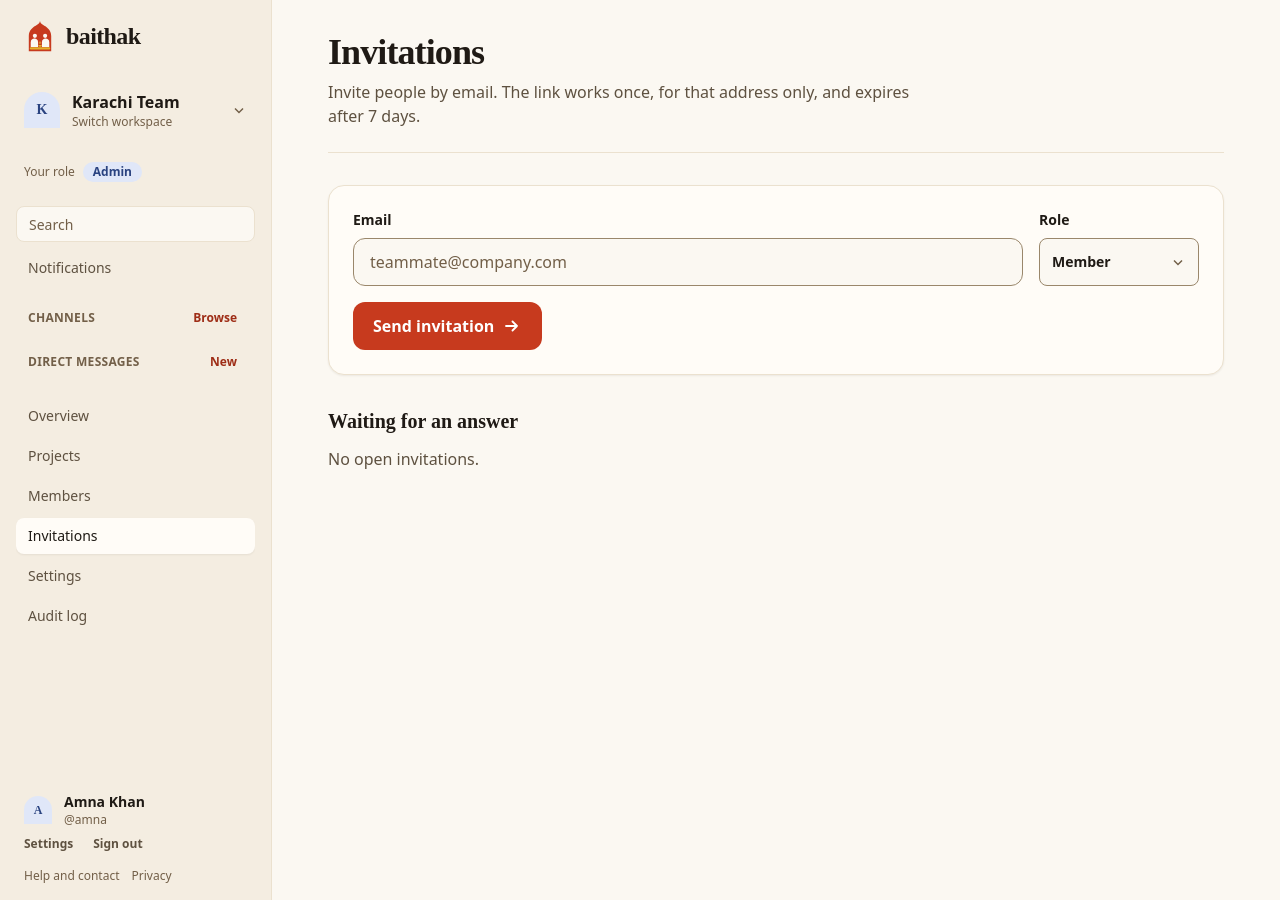
Test: invitations › an admin invites someone and sees it waiting
Type "chanda@example.com" into the field labelled "Email" at (688, 262), box [353,238,1023,286]
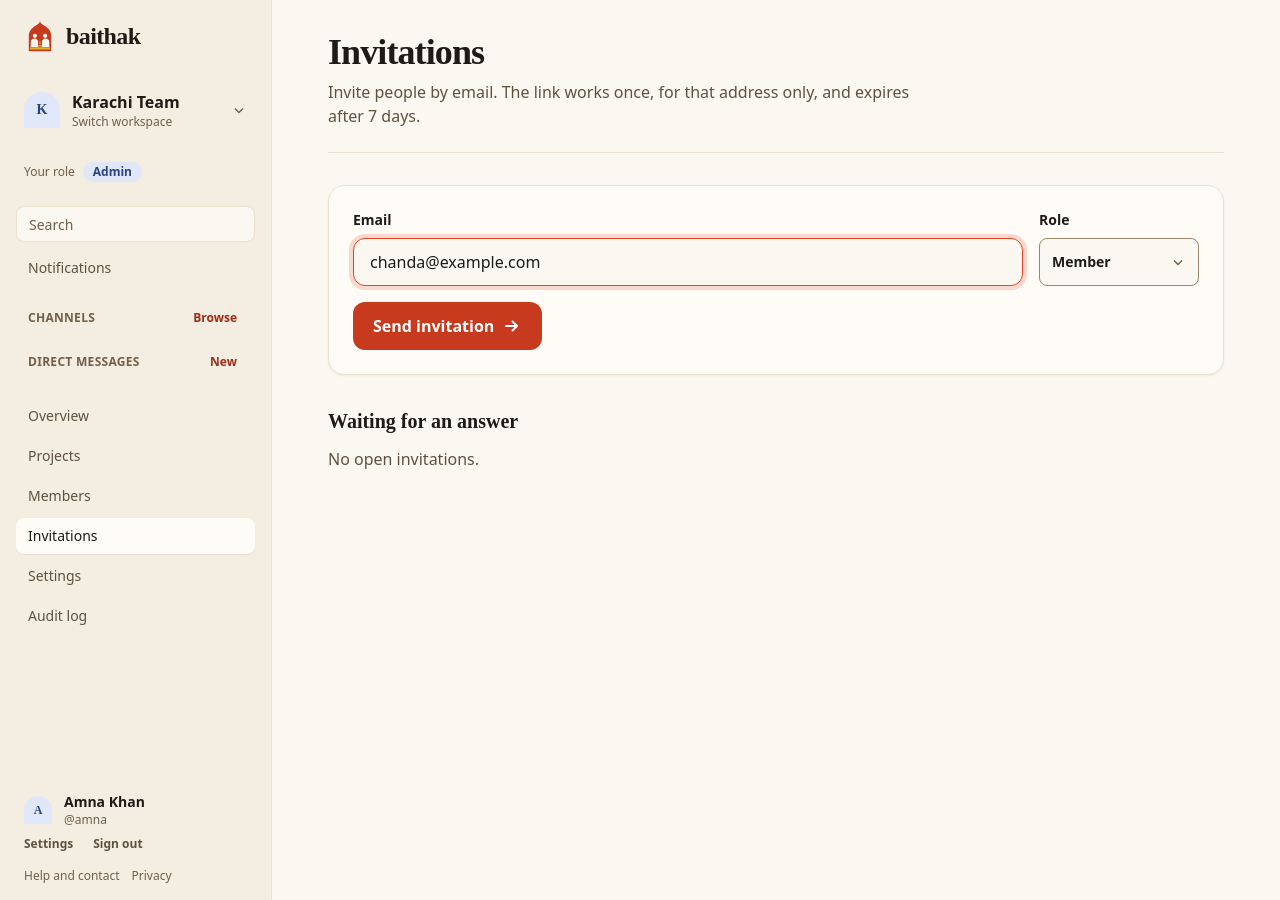
Click the dropdown named "Role" at (1119, 262), box [1039,238,1199,286]
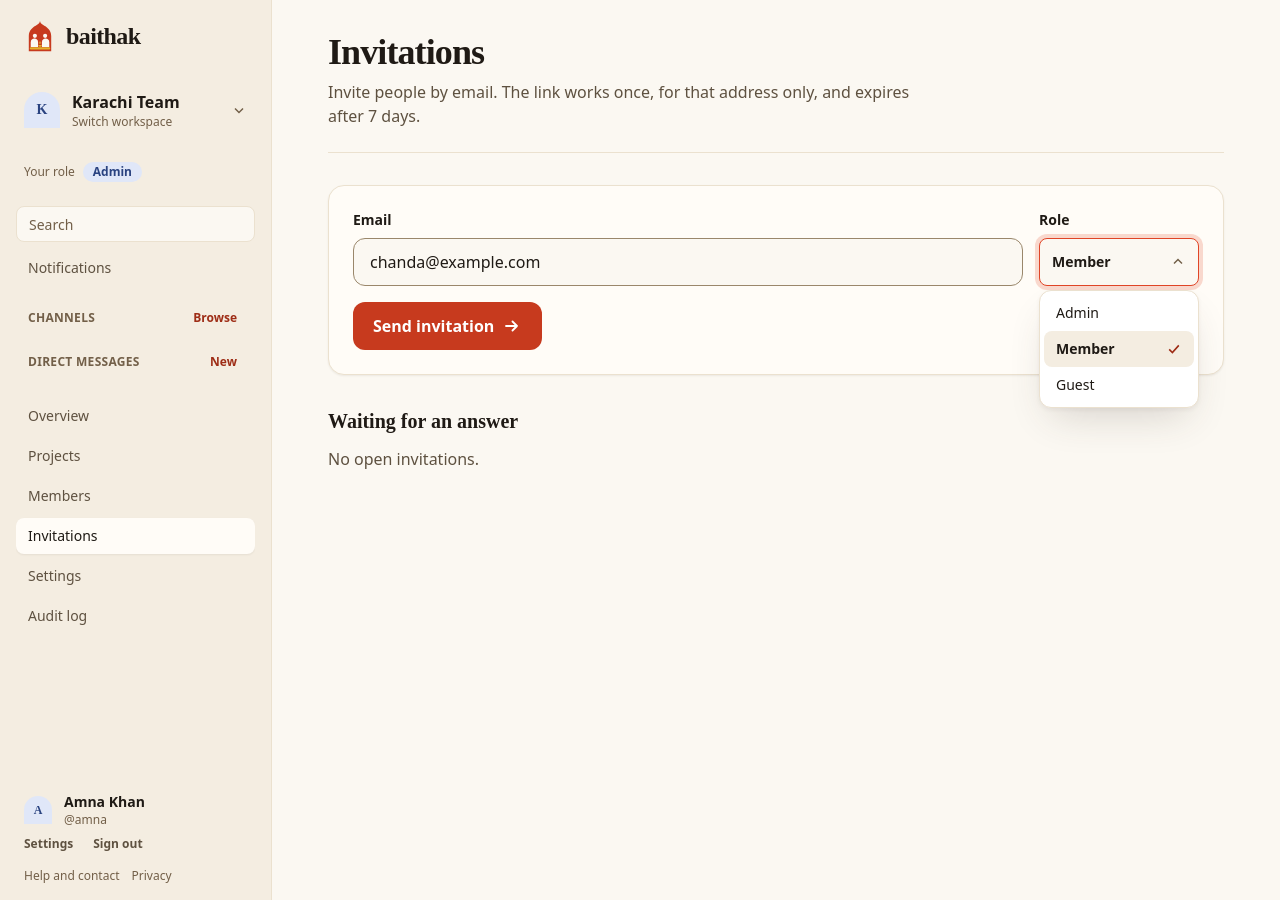
Click the option "Member" at (1119, 349), box [1044,331,1194,367]
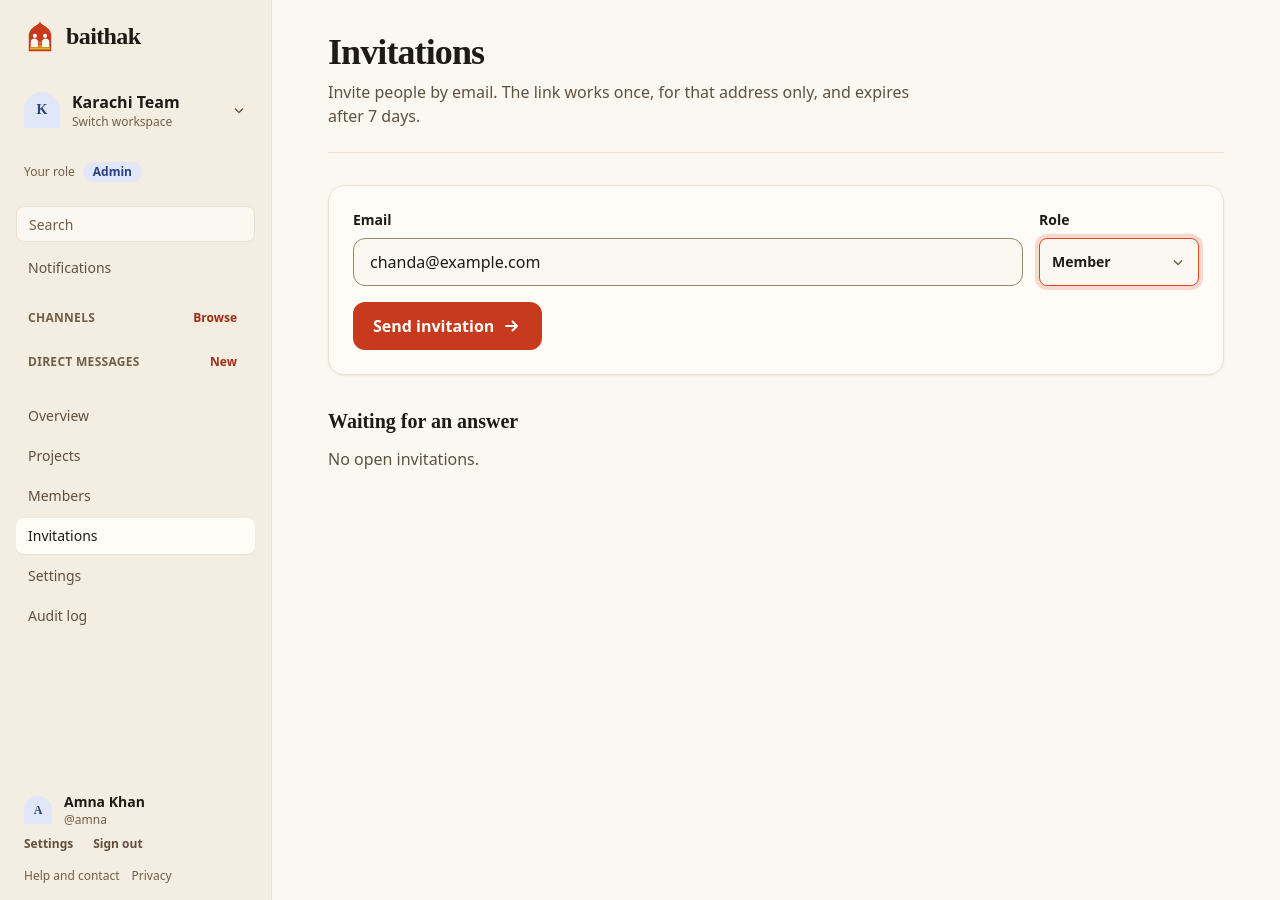
Click the button "Send invitation" at (448, 326), box [353,302,542,350]
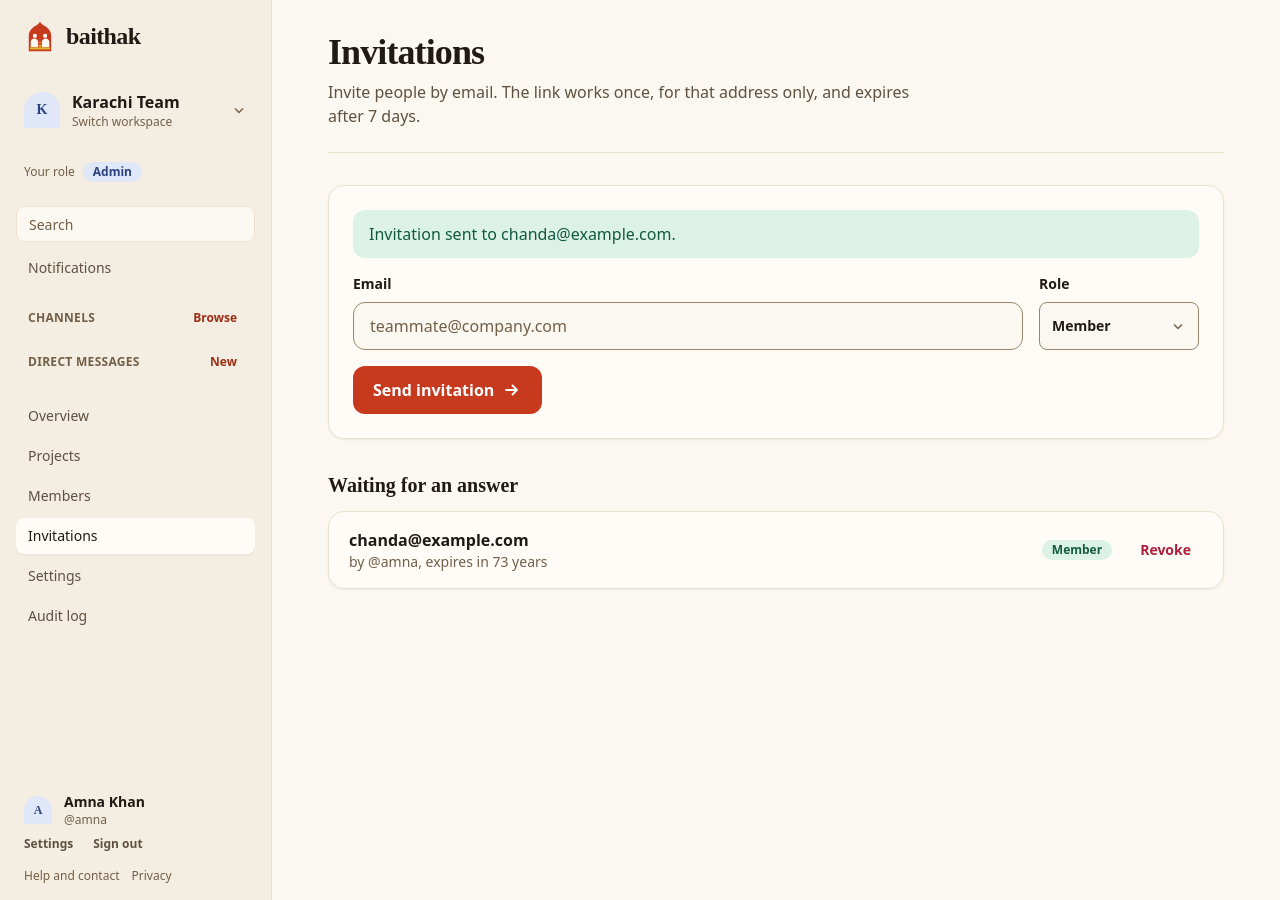
Now the text "Invitation sent to chanda@example.com." is shown, box [353,210,1199,258]
Now the text "chanda@example.com" is shown, box [349,529,529,551]
